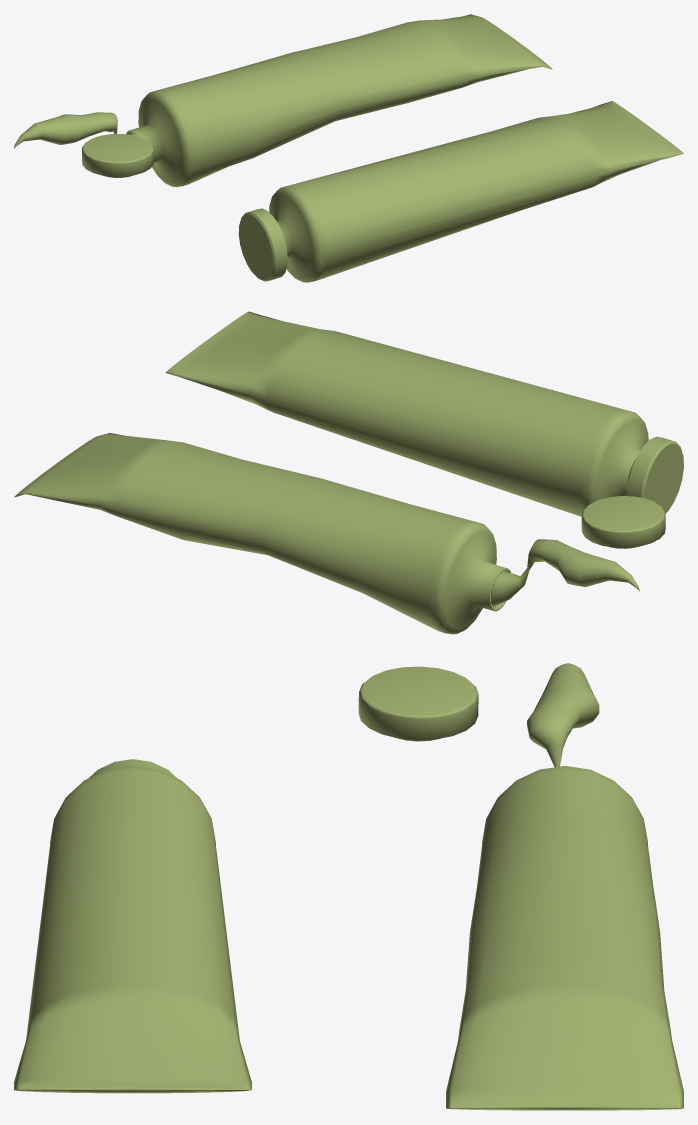
File: Paint_tubes_for_texture.fbx
3 renders of one model, top to bottom at view 1: azimuth 30°, elevation 25°; view 2: azimuth 150°, elevation 25°; view 3: azimuth 270°, elevation 25°, orthographic. The views are drawn at different scales.
Parts seen in each view (by area): view 1: polySurface28; view 2: polySurface28; view 3: polySurface28.
Boxes of the visible parts, x1=… form: polySurface28: x1=14, y1=14, x2=683, y2=282; polySurface28: x1=14, y1=311, x2=683, y2=634; polySurface28: x1=14, y1=663, x2=683, y2=1110.
Bounding box in the file's own units: 0.2138 × 0.0374 × 0.149.
